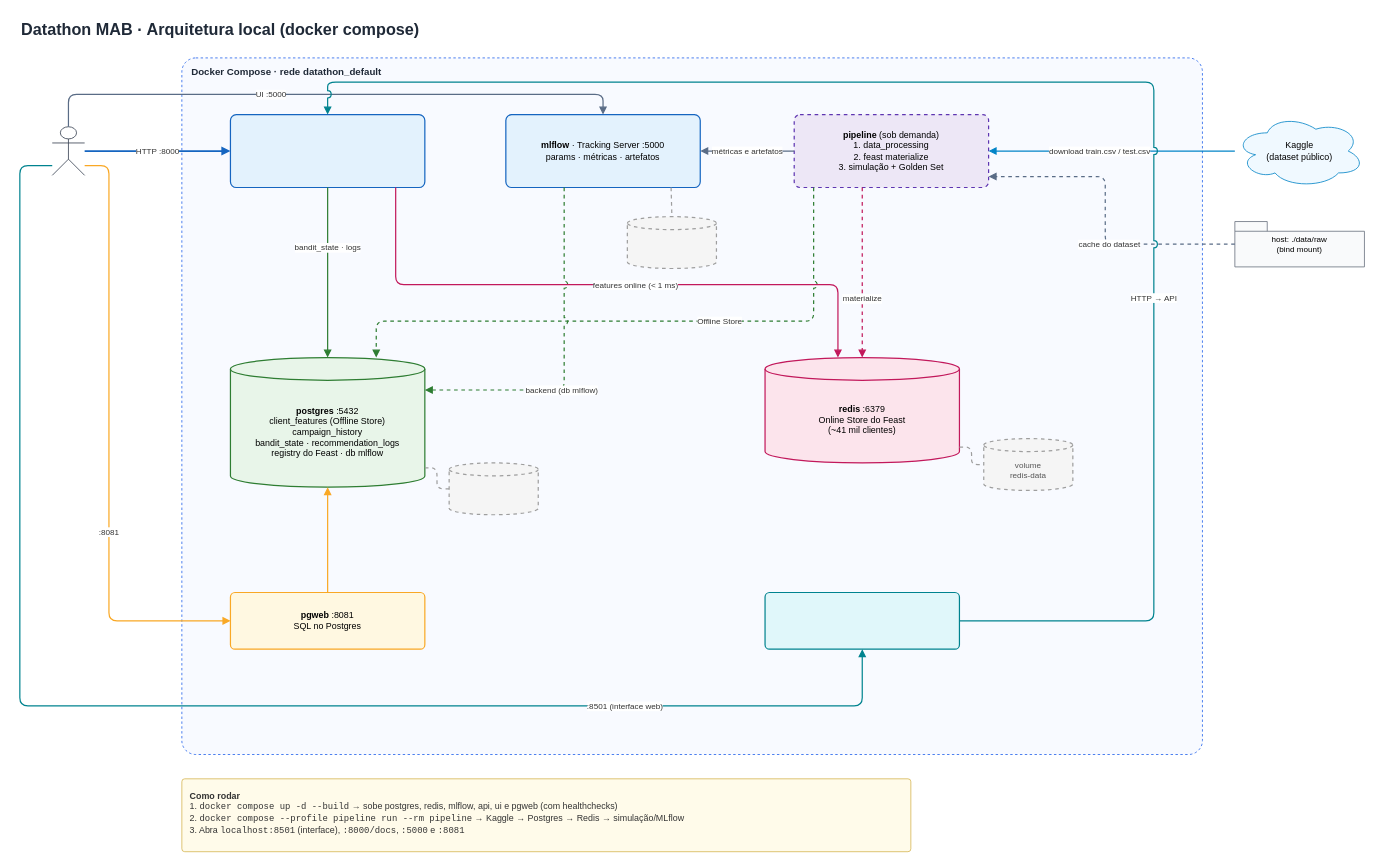
Image size: 1379x866. Some labels were removed from this diagram. The shapes that lost their labels are listed below. From the top down, each one's centre as x and y in pixels, then its label:
pixel 68 150: Você (navegador · curl)
pixel 327 151: api · FastAPI :8000 /recommend · /feedback · /arms Swagger em /docs
pixel 671 242: volume mlflow-artifacts
pixel 493 488: volume postgres-data
pixel 862 620: ui · Streamlit :8501 interface web da demo
